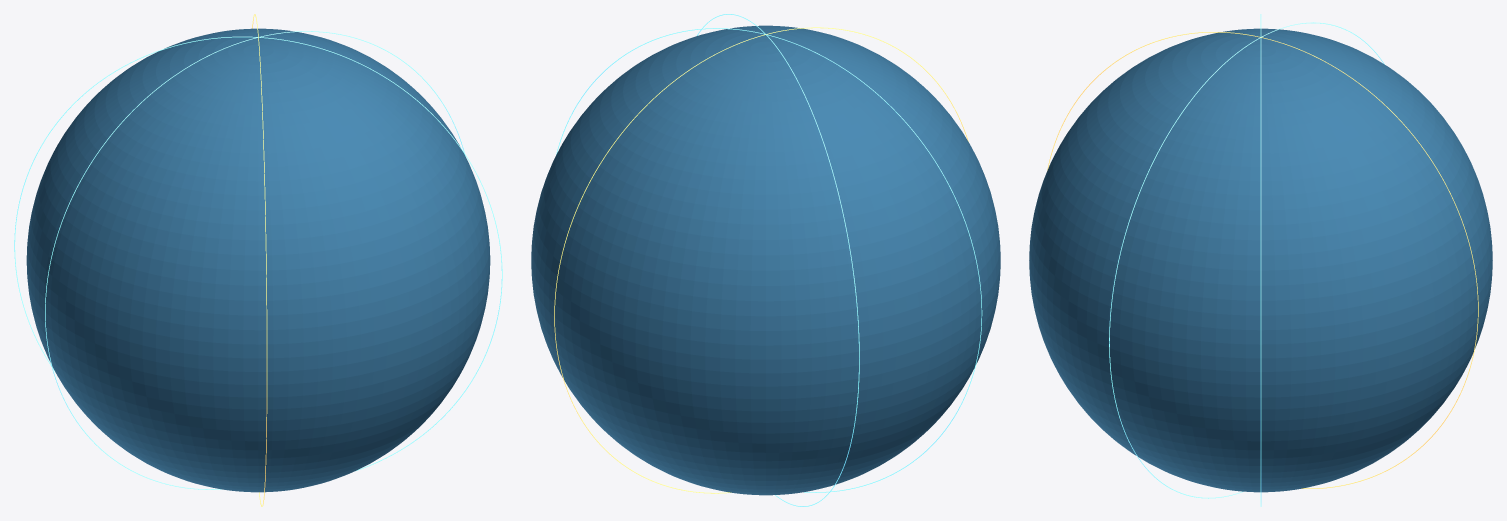
The model's file is jmpseat-globe-helpers.glb.
3 renders of one model, left to right at view 1: azimuth 30°, elevation 25°; view 2: azimuth 150°, elevation 25°; view 3: azimuth 270°, elevation 25°, orthographic.
Parts seen in each view (by area): view 1: globe_atmosphere_shell, globe_route_reference_ring_3, globe_route_reference_ring_1, globe_route_reference_ring_2; view 2: globe_atmosphere_shell, globe_route_reference_ring_2, globe_route_reference_ring_1, globe_route_reference_ring_3; view 3: globe_atmosphere_shell, globe_route_reference_ring_2, globe_route_reference_ring_1, globe_route_reference_ring_3.
Boxes of the visible parts, <box> form: globe_atmosphere_shell: <box>26,28,490,492</box>; globe_route_reference_ring_3: <box>14,36,502,470</box>; globe_route_reference_ring_1: <box>45,31,465,489</box>; globe_route_reference_ring_2: <box>252,14,267,506</box>; globe_atmosphere_shell: <box>531,25,1000,495</box>; globe_route_reference_ring_2: <box>554,27,968,493</box>; globe_route_reference_ring_1: <box>556,28,982,492</box>; globe_route_reference_ring_3: <box>697,14,859,506</box>; globe_atmosphere_shell: <box>1029,28,1492,492</box>; globe_route_reference_ring_2: <box>1047,32,1478,488</box>; globe_route_reference_ring_1: <box>1260,14,1261,506</box>; globe_route_reference_ring_3: <box>1109,22,1384,498</box>.
Bounding box in the file's own units: 3.45 × 3.45 × 3.24.
